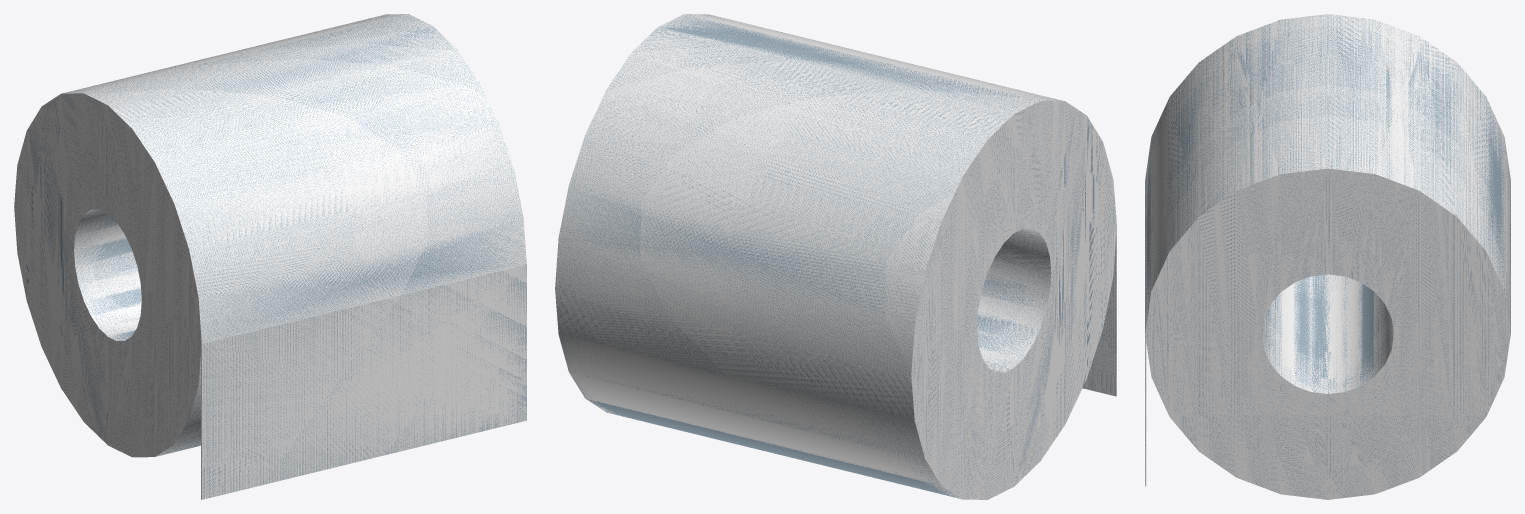
The model's file is Paper.fbx.
3 views of the same model, side by side, from view 1: azimuth 30°, elevation 25°; view 2: azimuth 150°, elevation 25°; view 3: azimuth 270°, elevation 25° (orthographic). The views are drawn at different scales.
Visible parts, largest first — view 1: Toilet_Paper1; view 2: Toilet_Paper1; view 3: Toilet_Paper1.
Part boxes in pixels (box(x1,y1,x2,y2)): Toilet_Paper1: box(14, 14, 526, 499); Toilet_Paper1: box(555, 14, 1116, 499); Toilet_Paper1: box(1145, 14, 1510, 499).
Size of the model in its own units: 4.5 by 4.5 by 4.5.
